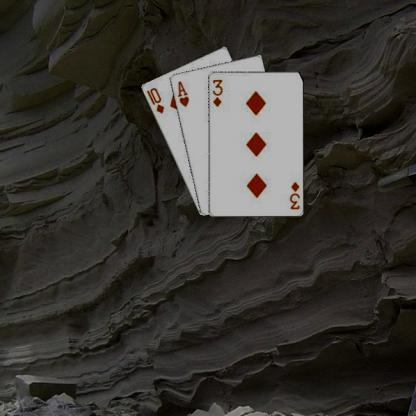10D: (143, 84, 165, 115)
3D: (209, 77, 224, 108), (287, 178, 301, 210)
AH: (175, 78, 190, 108)
